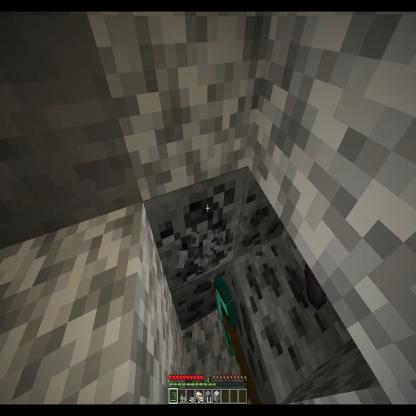coal ore: (228, 237, 346, 416), (140, 167, 235, 266), (233, 159, 299, 263), (172, 266, 228, 325)
